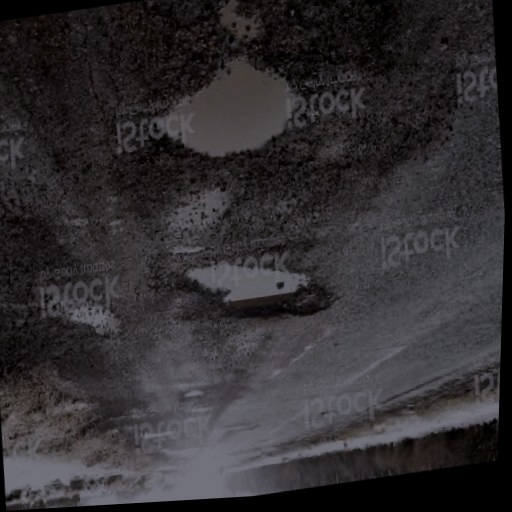pothole: (152, 52, 309, 174), (169, 244, 335, 341)
